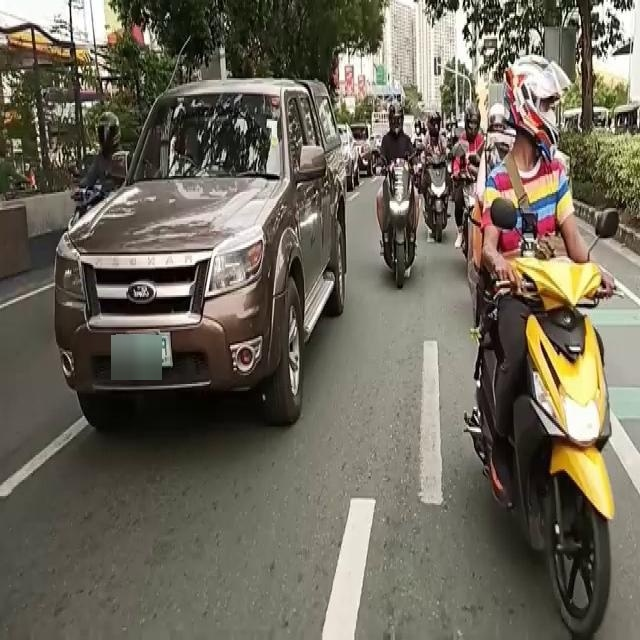car: (60, 63, 336, 449)
motorcycle: (460, 94, 590, 622), (68, 112, 126, 241), (385, 109, 413, 288), (452, 111, 478, 255), (420, 110, 448, 240)
